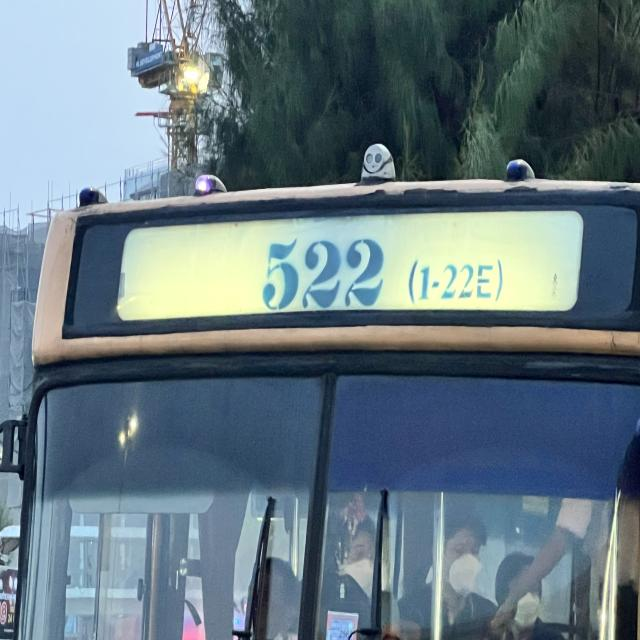BMTA-bus: (0, 133, 640, 640)
Bus-Line-Number: (253, 225, 512, 311)
